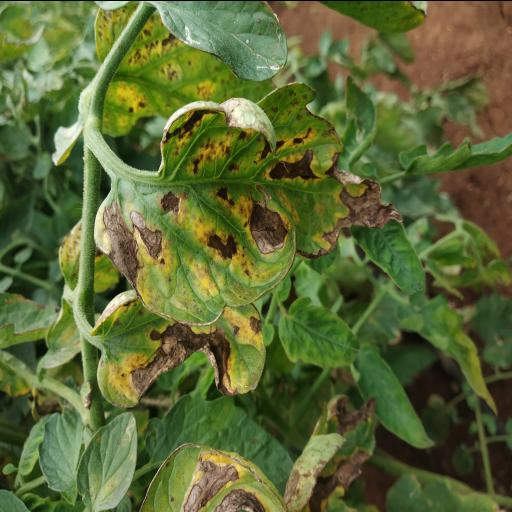disease_tomato: (94, 82, 408, 323), (90, 294, 276, 409)
